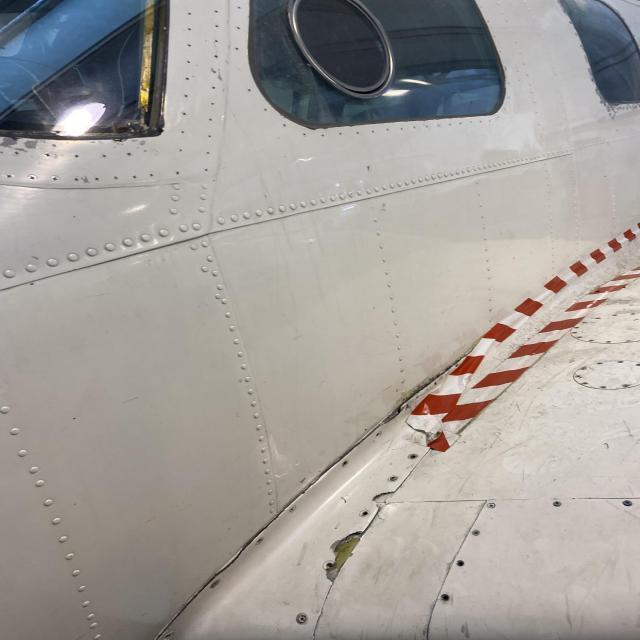Crack: (195, 524, 269, 591), (382, 370, 452, 428), (316, 528, 374, 582), (371, 490, 400, 508)
Missing_Fastener: (438, 592, 452, 602), (455, 559, 468, 568), (359, 507, 369, 518), (406, 452, 419, 460), (340, 458, 350, 468), (374, 430, 383, 438)
